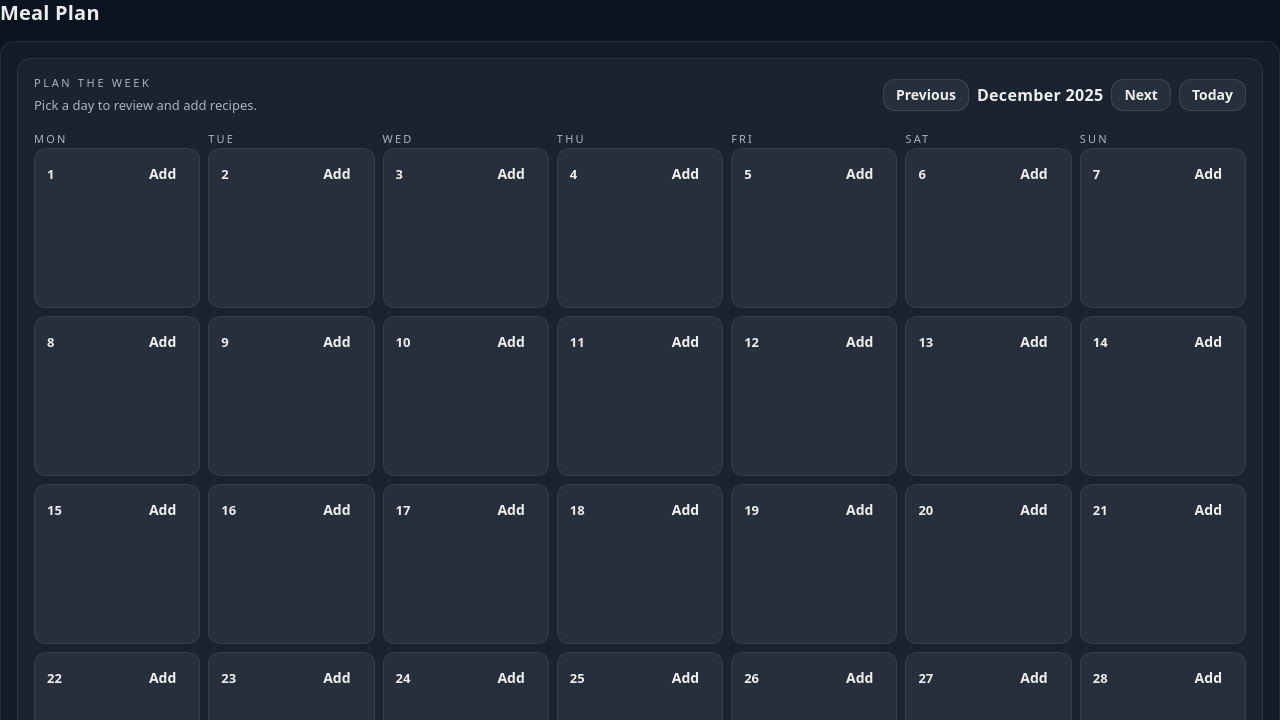
Test: MealPlanPage › adds a recipe to the selected day and renders navigation links
Expected: the heading "Meal Plan" is shown, [0,0,100,25]
Click the button named "select ". click: (51, 174)
box: [47,160,54,188]
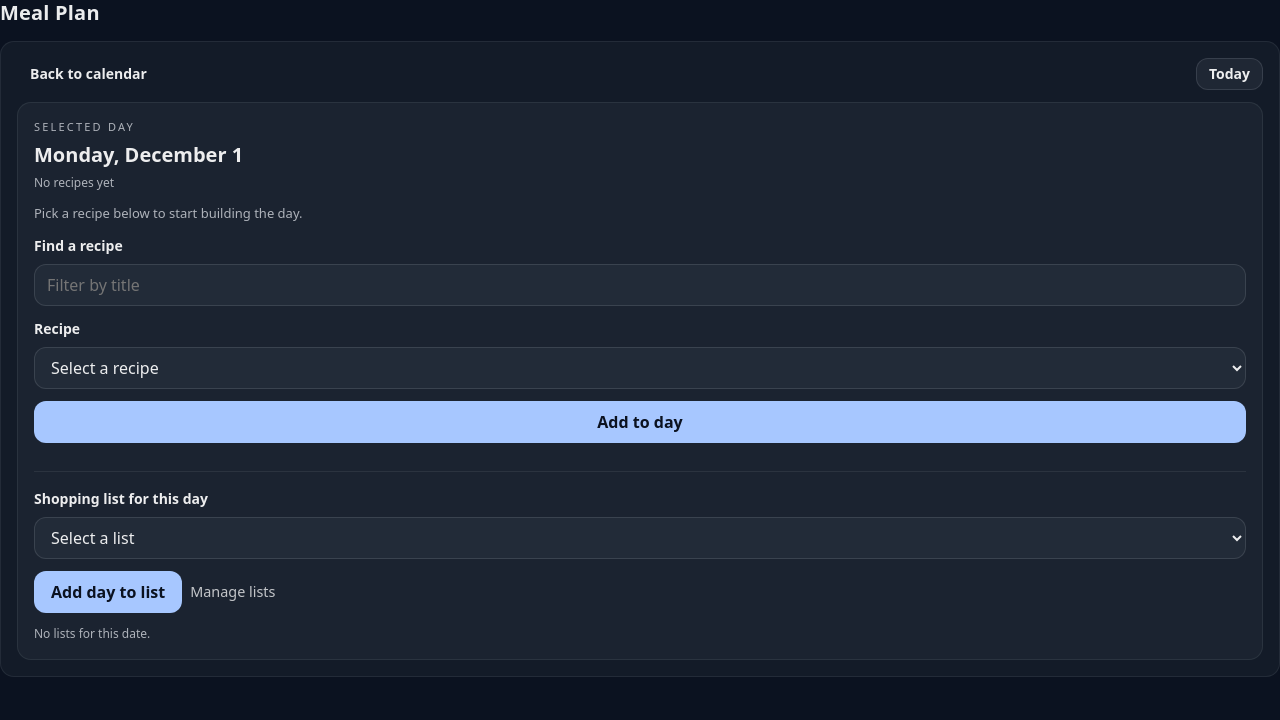
Now the dropdown labelled "Recipe" is enabled
Select "Pasta" in the dropdown labelled "Recipe". click: (640, 368)
box: [34,347,1246,389]
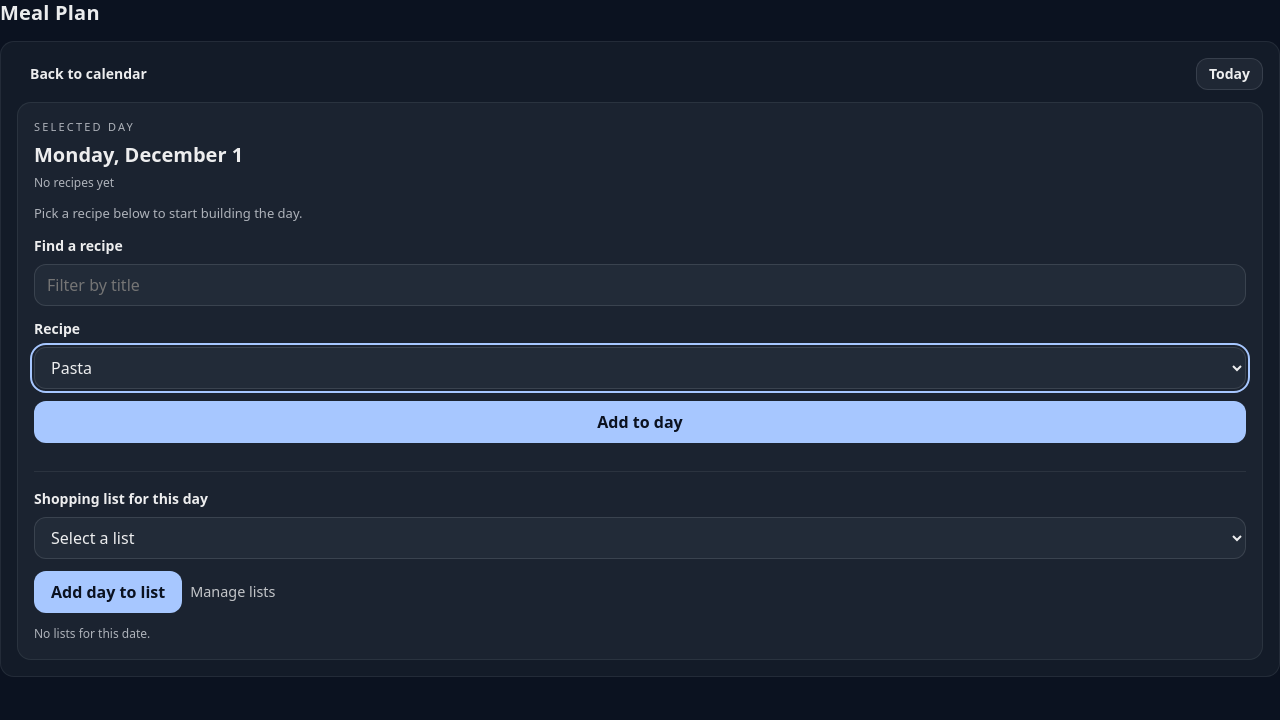
Click the button "Add to day". click: (640, 422)
box: [34,401,1246,443]
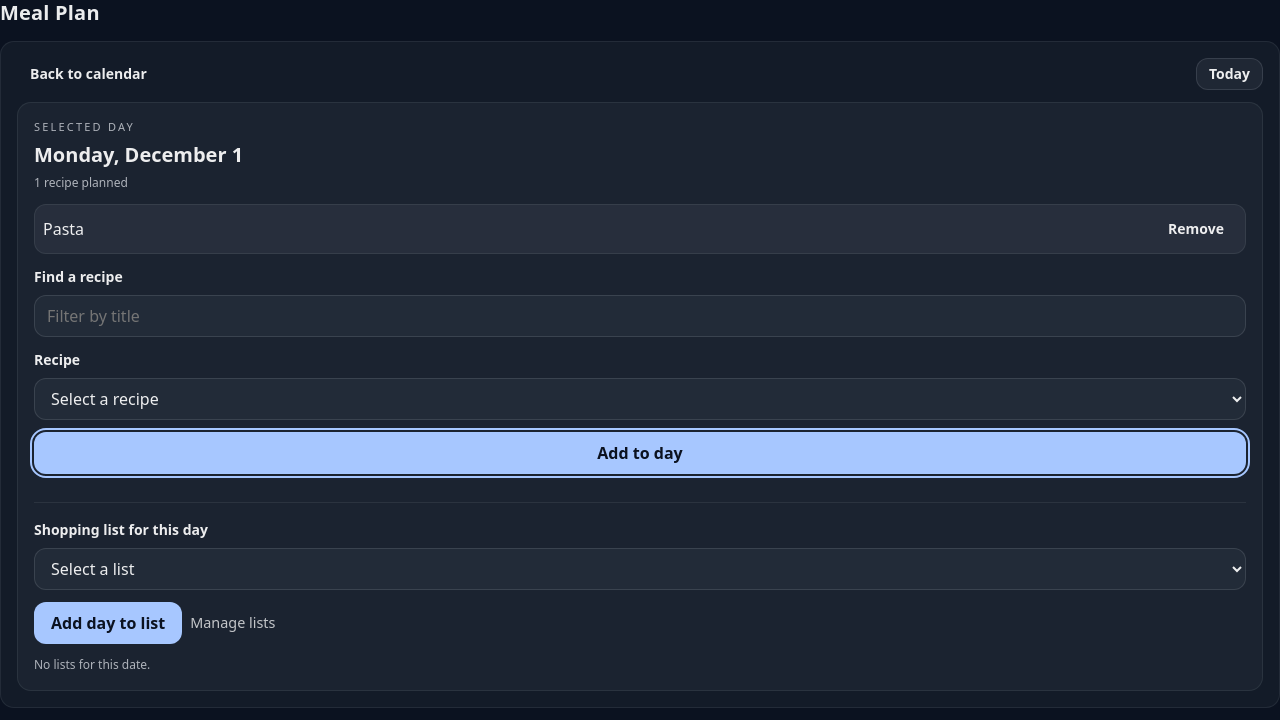
Now the link "Pasta" is shown, box [43,216,84,240]
